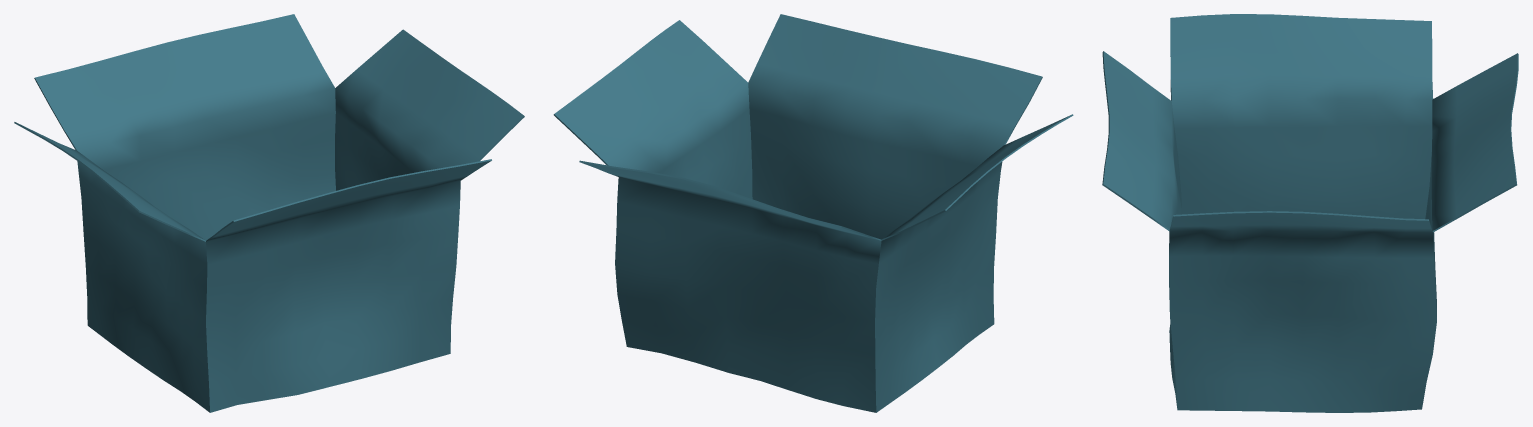
The model's file is SM_SmallTrashkit_Box_001.fbx.
The picture shows the model from 3 angles, left to right: view 1: azimuth 30°, elevation 25°; view 2: azimuth 150°, elevation 25°; view 3: azimuth 270°, elevation 25°; orthographic projection. The views are drawn at different scales.
Visible parts, largest first — view 1: SM_SmallTrashkit_Box_001; view 2: SM_SmallTrashkit_Box_001; view 3: SM_SmallTrashkit_Box_001.
Part boxes in pixels (left/top/right/bottom): SM_SmallTrashkit_Box_001: left=14, top=14, right=524, bottom=412; SM_SmallTrashkit_Box_001: left=553, top=14, right=1073, bottom=412; SM_SmallTrashkit_Box_001: left=1102, top=14, right=1518, bottom=412.
Size of the model in its own units: 98.66 by 55.32 by 87.57.
